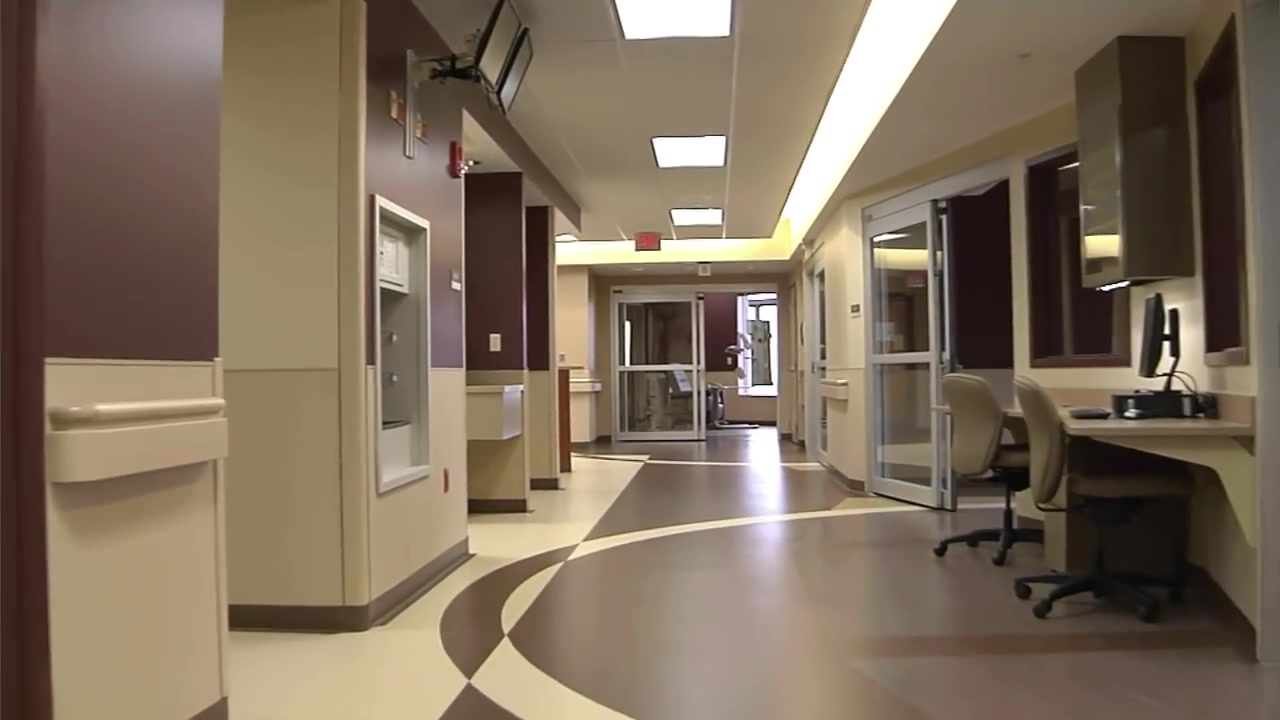TV: (478, 1, 521, 94), (497, 26, 535, 113)
chair: (1007, 369, 1180, 621), (910, 370, 1009, 564)
computer: (1138, 292, 1180, 378)
countertop: (930, 405, 1251, 436), (558, 365, 584, 370)
hallway_assist_bar: (48, 396, 226, 426), (819, 378, 848, 385), (569, 377, 602, 382)
handle: (701, 368, 705, 380)
keyboard: (1067, 408, 1111, 420)
light_switch: (489, 333, 501, 351)
mouse: (1122, 409, 1147, 420)
overbed_table: (711, 386, 760, 429)
sofa: (665, 362, 725, 430)
